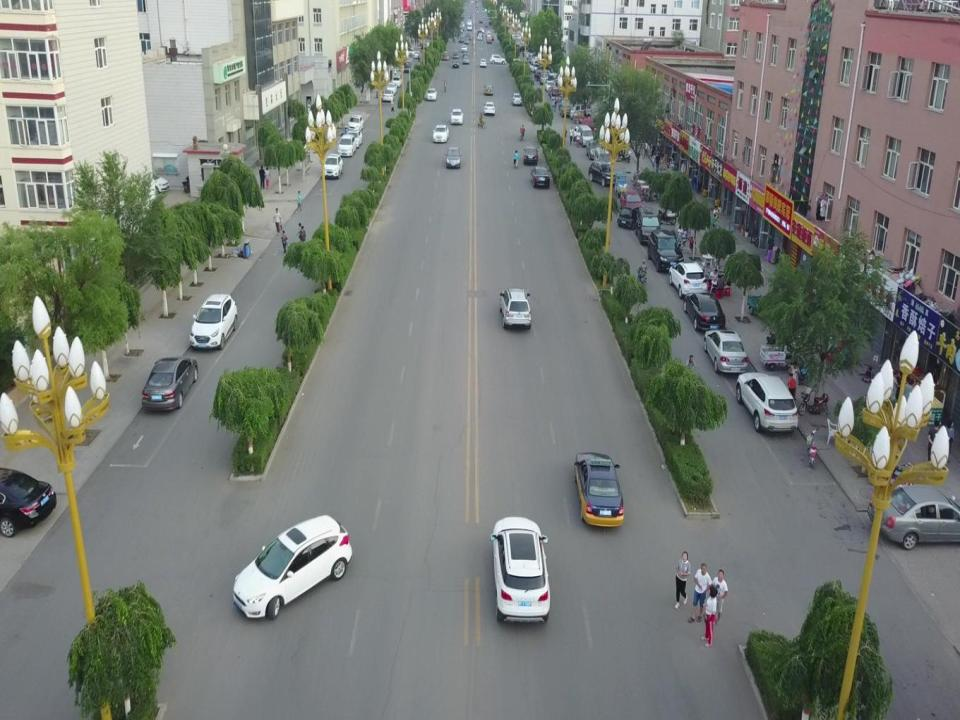car: (234, 513, 353, 619), (491, 516, 550, 625), (868, 484, 955, 550), (0, 467, 56, 540), (737, 371, 798, 432), (575, 452, 624, 527), (141, 356, 199, 411), (188, 293, 238, 350), (704, 328, 748, 372), (683, 291, 726, 333), (647, 229, 684, 272), (111, 167, 168, 193), (668, 261, 706, 299), (499, 285, 532, 327), (635, 207, 661, 245), (588, 160, 620, 185), (617, 203, 642, 229), (619, 190, 643, 216), (322, 152, 344, 180), (336, 135, 357, 157), (530, 166, 550, 189), (446, 146, 462, 168), (346, 114, 362, 135), (348, 128, 363, 149), (523, 146, 539, 165), (586, 139, 601, 159), (433, 124, 449, 142), (450, 109, 464, 124), (489, 55, 507, 65), (484, 101, 496, 115), (559, 102, 571, 116), (535, 70, 548, 82), (536, 66, 550, 77), (382, 90, 394, 102), (385, 83, 397, 95), (542, 70, 558, 79), (511, 93, 522, 106), (391, 74, 402, 86), (426, 88, 437, 100), (484, 82, 494, 95), (550, 87, 560, 100), (529, 63, 540, 73), (539, 72, 548, 84), (544, 80, 554, 90), (548, 86, 557, 96), (452, 58, 460, 68), (442, 51, 450, 60), (452, 49, 459, 59), (480, 58, 487, 68), (408, 48, 415, 56), (413, 51, 421, 58), (461, 44, 468, 52), (462, 56, 469, 64), (462, 50, 469, 57)
truck: (615, 172, 629, 198)
van: (594, 147, 612, 174), (570, 102, 592, 120), (578, 124, 594, 147), (582, 118, 604, 133), (404, 62, 412, 74)
